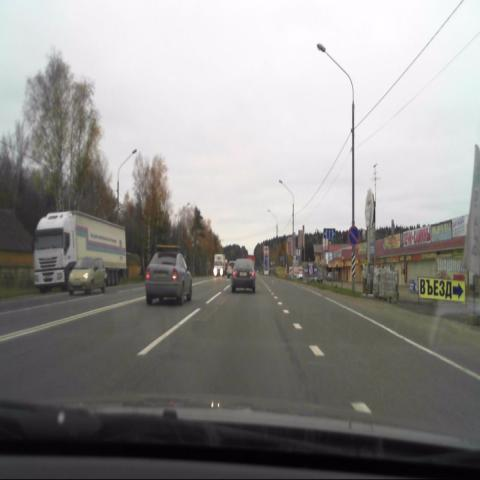3_28: (347, 226, 359, 246)
